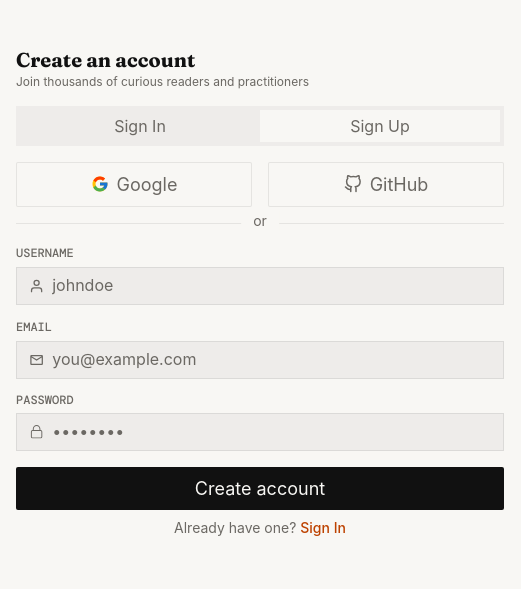
RegisterForm component › Form Validation › should display validation errors when submitted with empty fields
Click the button "Create account".
click(260, 489)  # box [16,467,504,510]
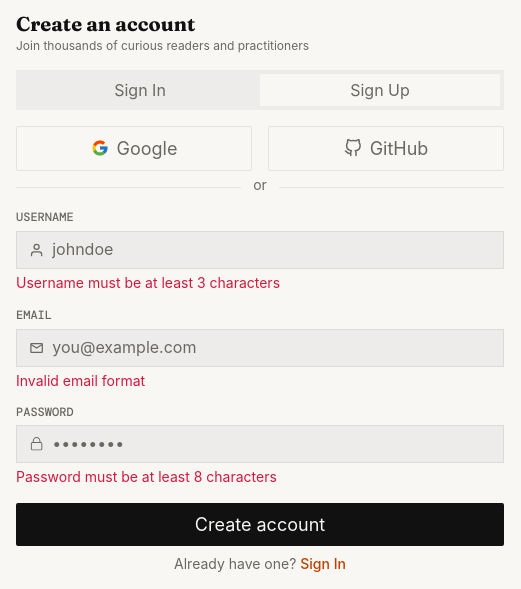
Result: the text "Username must be at least 3 characters" is shown at [16,274,280,291]
Result: the text "Invalid email format" is shown at [16,372,145,389]
Result: the text "Password must be at least 8 characters" is shown at [16,468,277,485]
